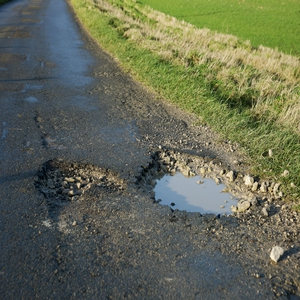pothole: (131, 143, 276, 226), (30, 154, 132, 215)
